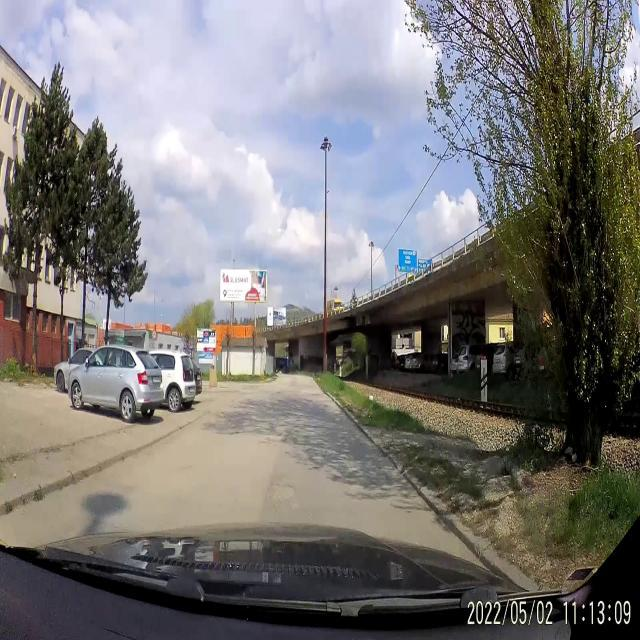Pothole: (262, 480, 304, 514)
